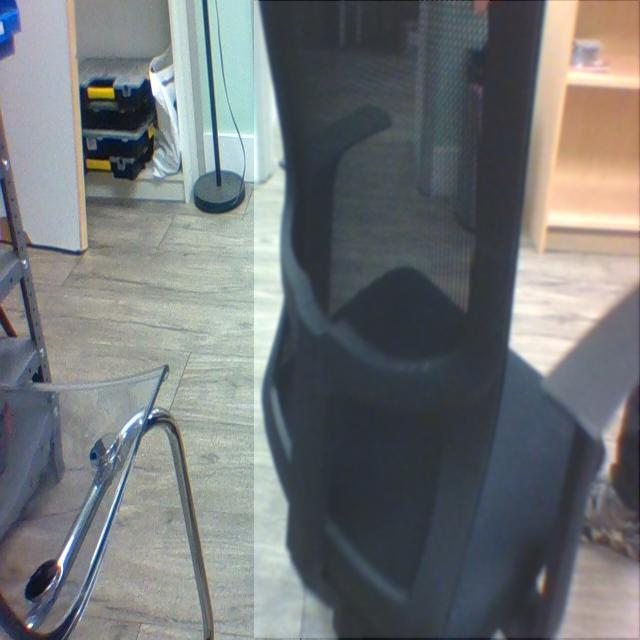black-chair: (254, 1, 640, 639)
